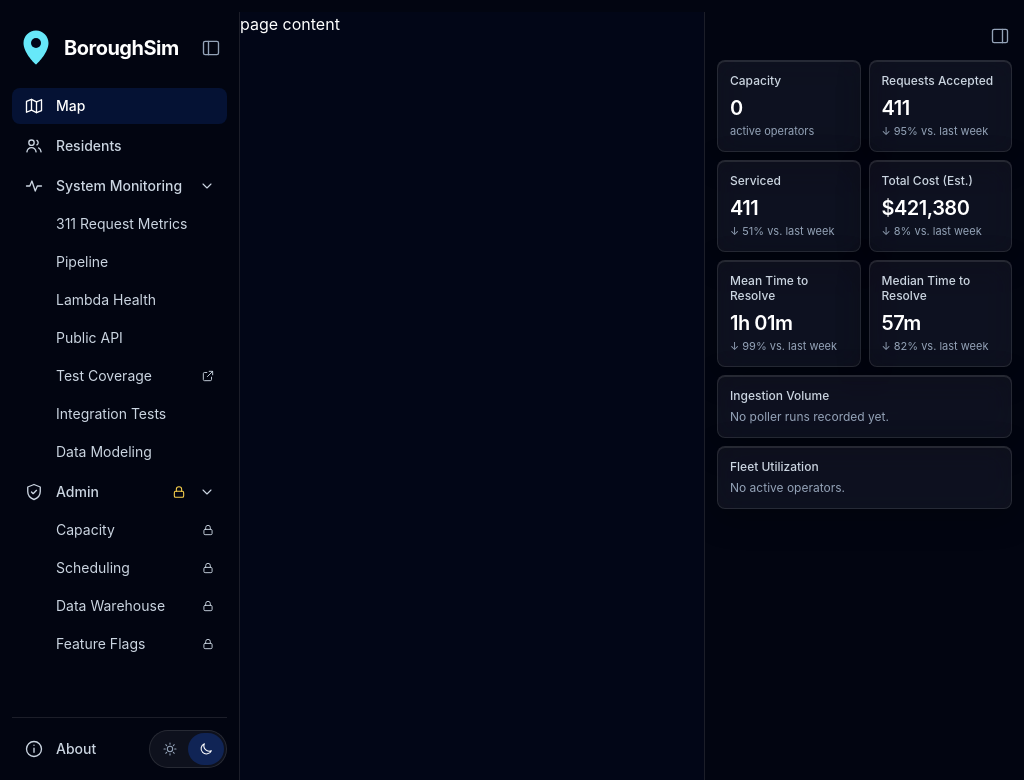
Scenario: WorkspaceShell — wide › hides the secondary workspace and offers a handle to bring it back
Click the button named "Hide secondary panel". click: point(1000, 36)
box: [984,20,1016,52]
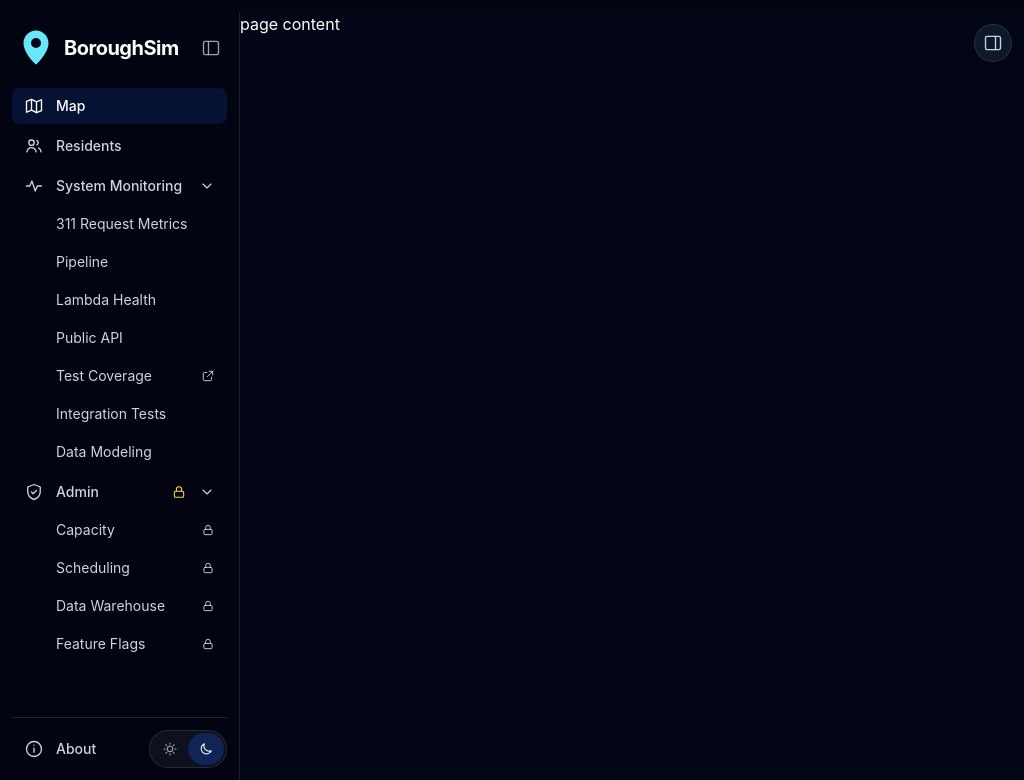
Click the button named "Show secondary panel". click: point(993, 43)
box: [974,24,1012,62]
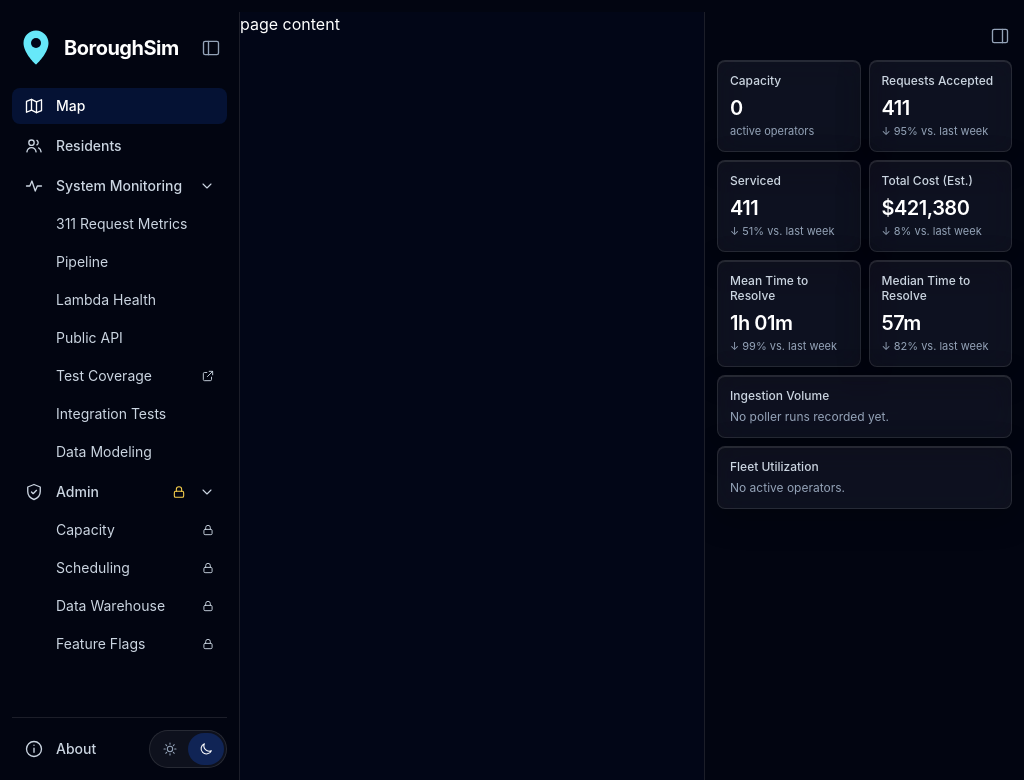
Check: the element named "Secondary workspace" is shown, box [704,12,1023,779]
